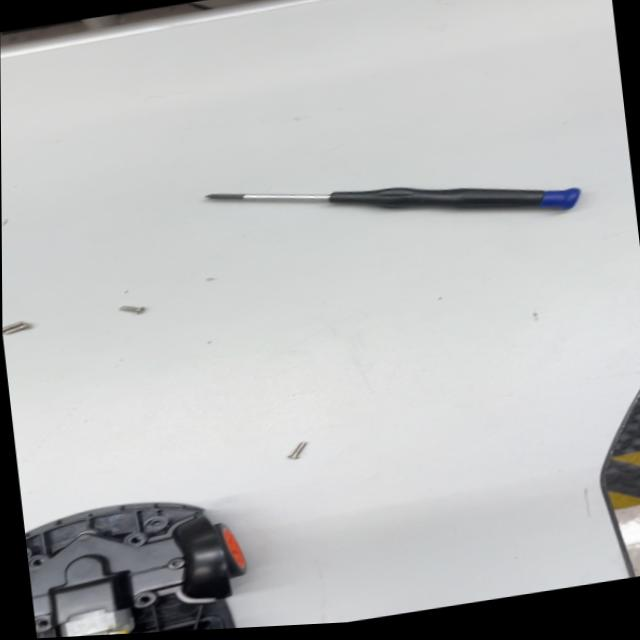screw: (275, 432, 319, 470), (116, 293, 160, 322), (2, 310, 39, 342)
screw_driver: (181, 126, 584, 280)
